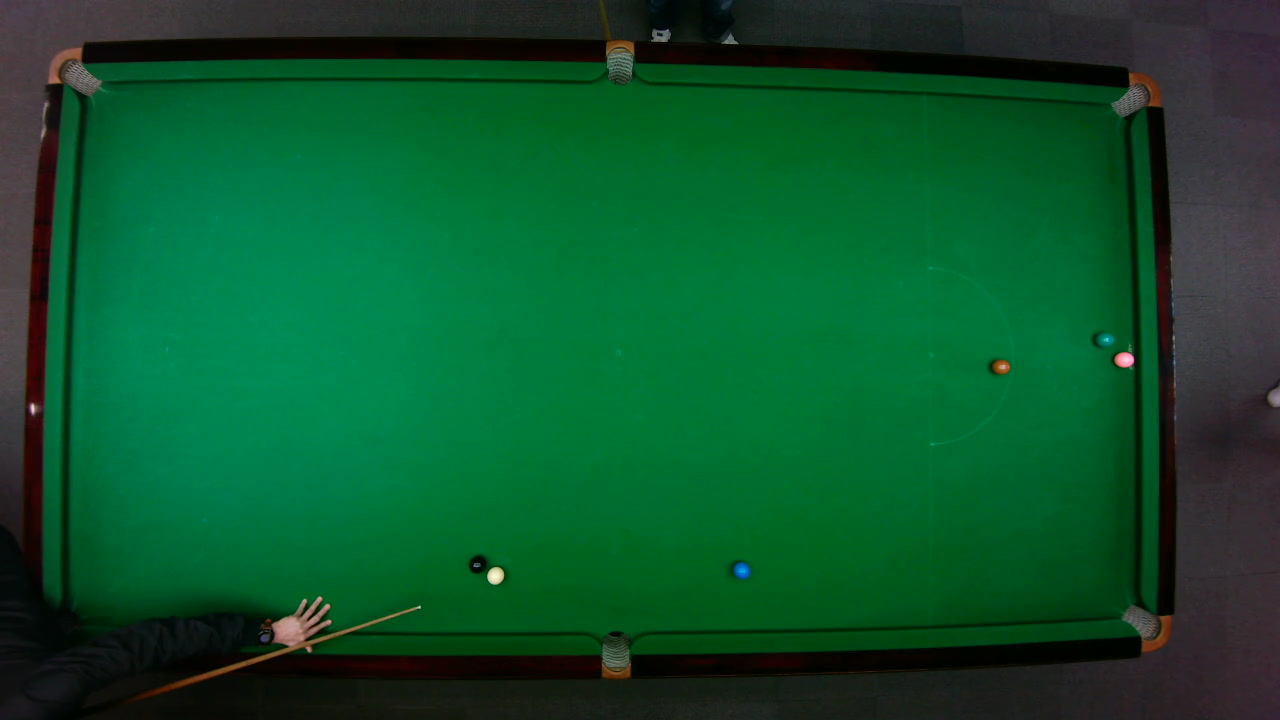bag: (45, 46, 102, 96), (1119, 603, 1172, 652), (1108, 71, 1161, 117), (600, 629, 630, 680), (605, 38, 633, 85)
black: (467, 554, 486, 573)
blue: (731, 560, 750, 579)
brown: (990, 358, 1011, 374)
cue: (124, 603, 426, 708)
green: (1093, 330, 1114, 347)
pink: (1112, 350, 1135, 368)
white: (485, 565, 505, 585)
zone: (927, 265, 1013, 445)
